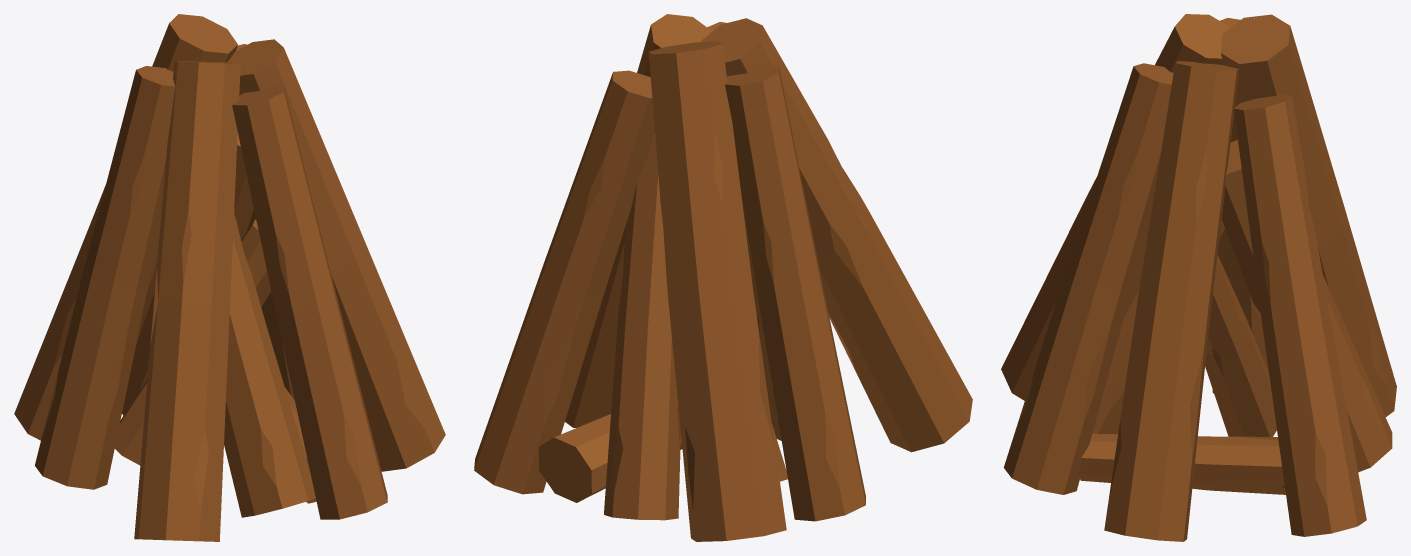
The model's file is fireplace.fbx.
The picture shows the model from 3 angles, left to right: view 1: azimuth 30°, elevation 25°; view 2: azimuth 150°, elevation 25°; view 3: azimuth 270°, elevation 25°; orthographic projection. The views are drawn at different scales.
Parts seen in each view (by area): view 1: fireplace; view 2: fireplace; view 3: fireplace.
Boxes of the visible parts, bbox=[...] form: fireplace: bbox=[14, 14, 445, 541]; fireplace: bbox=[474, 14, 972, 541]; fireplace: bbox=[1001, 14, 1396, 541].
Size of the model in its own units: 4.68 by 5.58 by 4.48.
